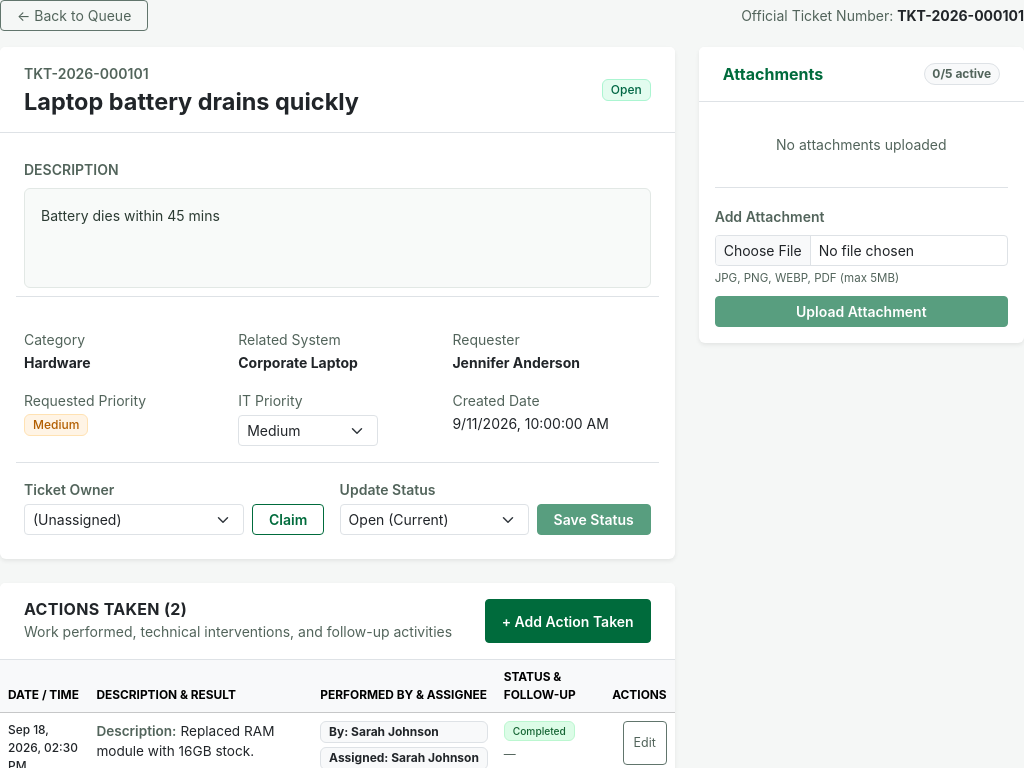
Test: Lab 4 / UI-07: Actions Taken Component Test Suite › 5. Double Submission Prevention › prevents duplicate Action Taken records when save button is clicked multiple times rapidly
Click the button "+ Add Action Taken" at (568, 621), box [485,599,651,643]
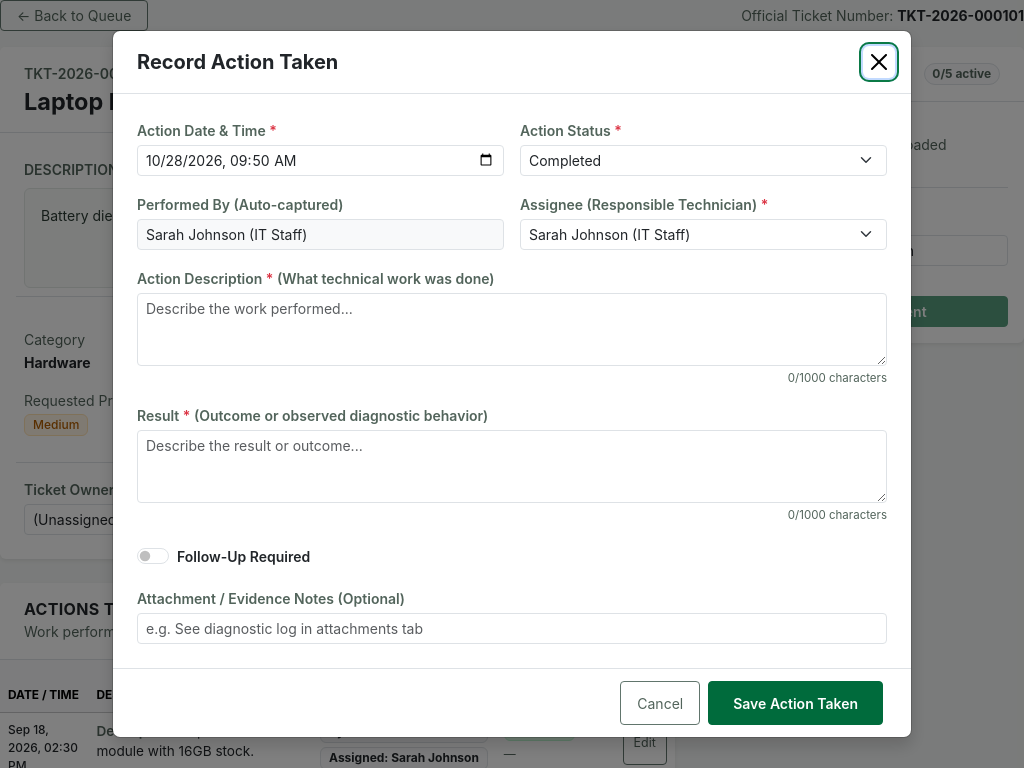
Result: the dialog is shown
Type "Testing double click prevention" into the text box labelled "Action Description * (What technical work was done)" at (512, 329), box [137,293,887,366]
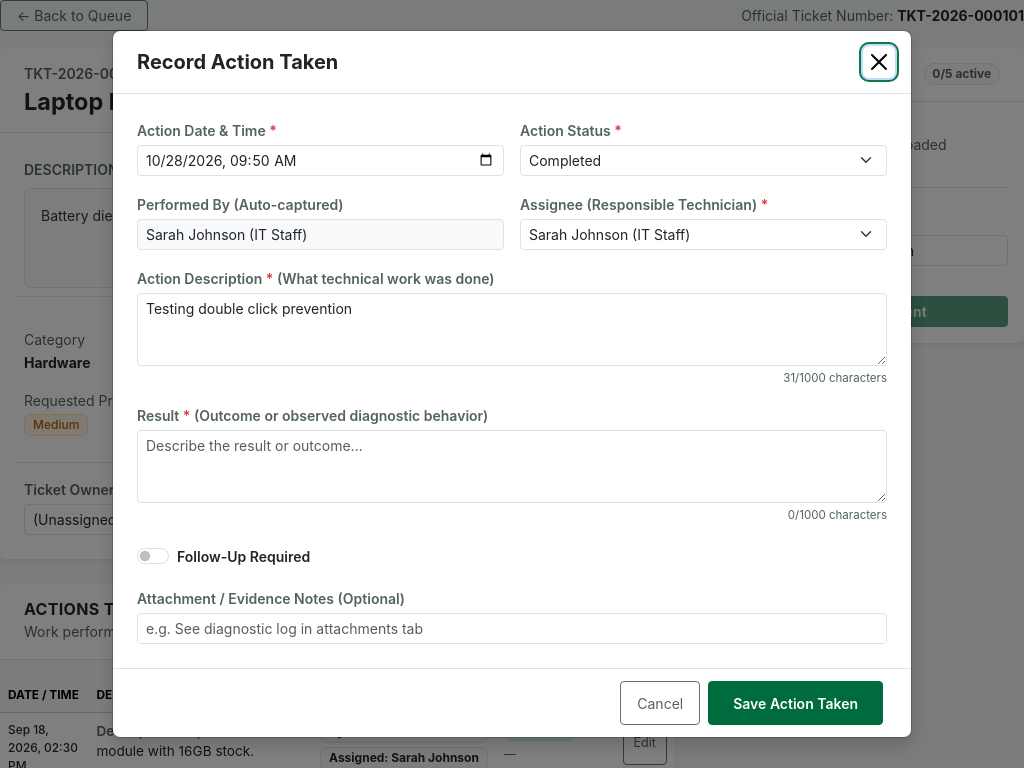
Type "Testing result" into the text box labelled "Result * (Outcome or observed diagnostic behavior)" at (512, 466), box [137,430,887,503]
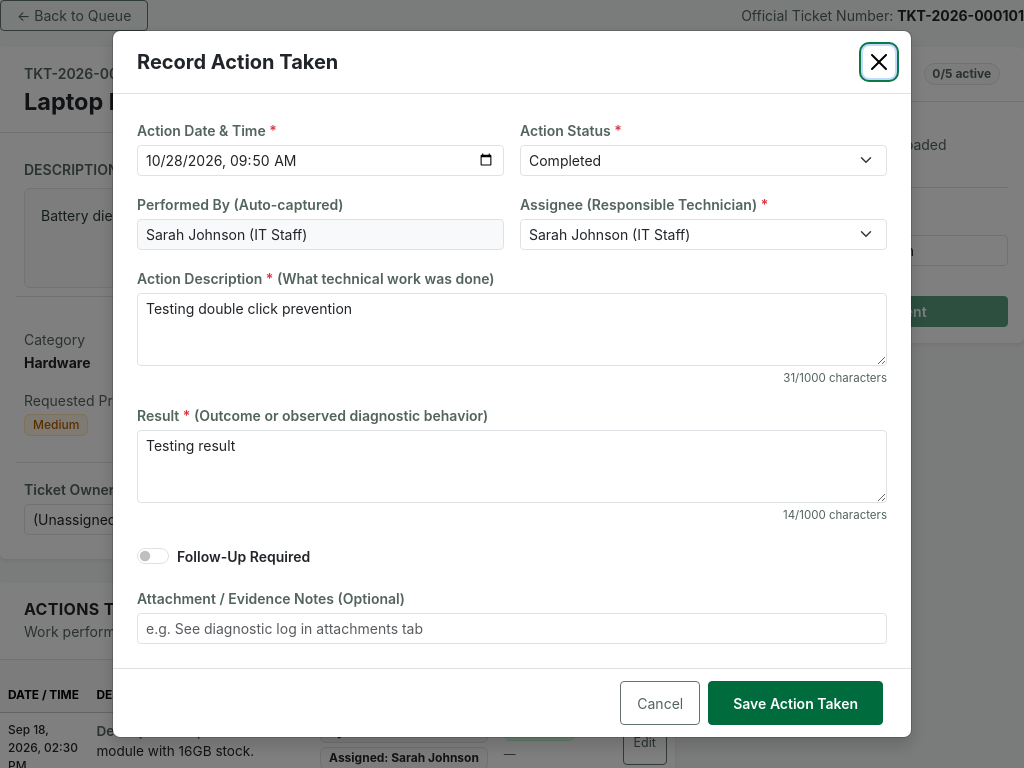
Select "Sarah Johnson (IT Staff)" in the dropdown labelled "Assignee (Responsible Technician) *" at (704, 234), box [520,219,887,250]
Note: Rapid double clicks
Click the button "Save Action Taken" at (796, 703), box [708,681,883,725]
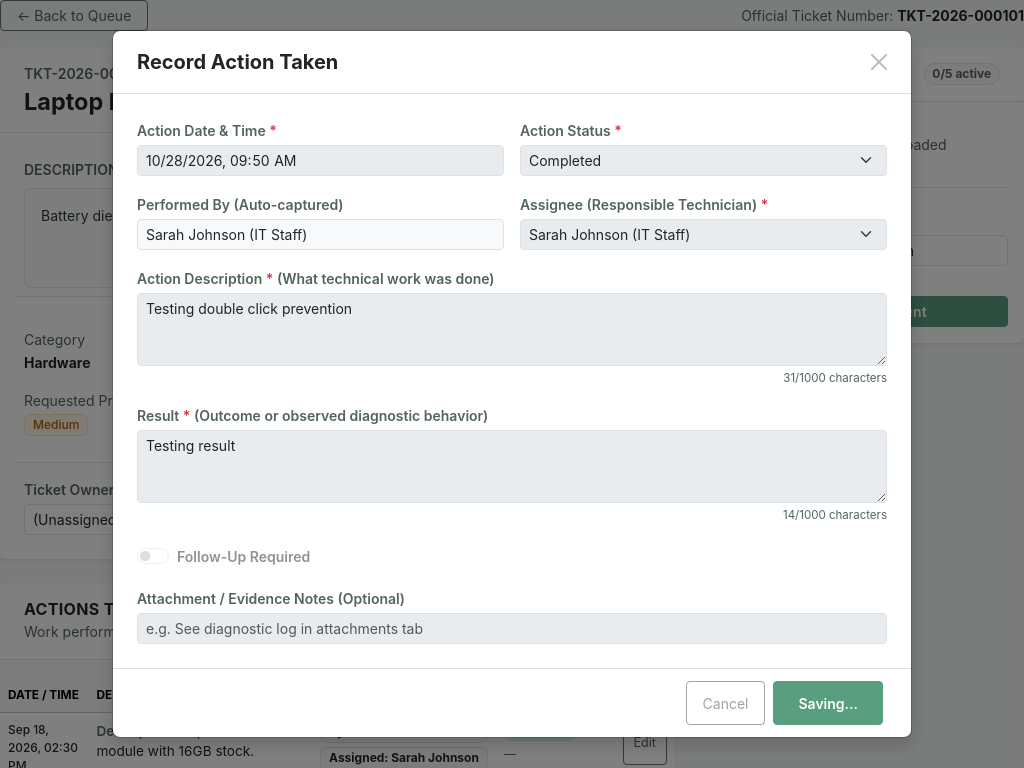
Click the button named "Save Action Taken" at (828, 703), box [774,681,883,725]
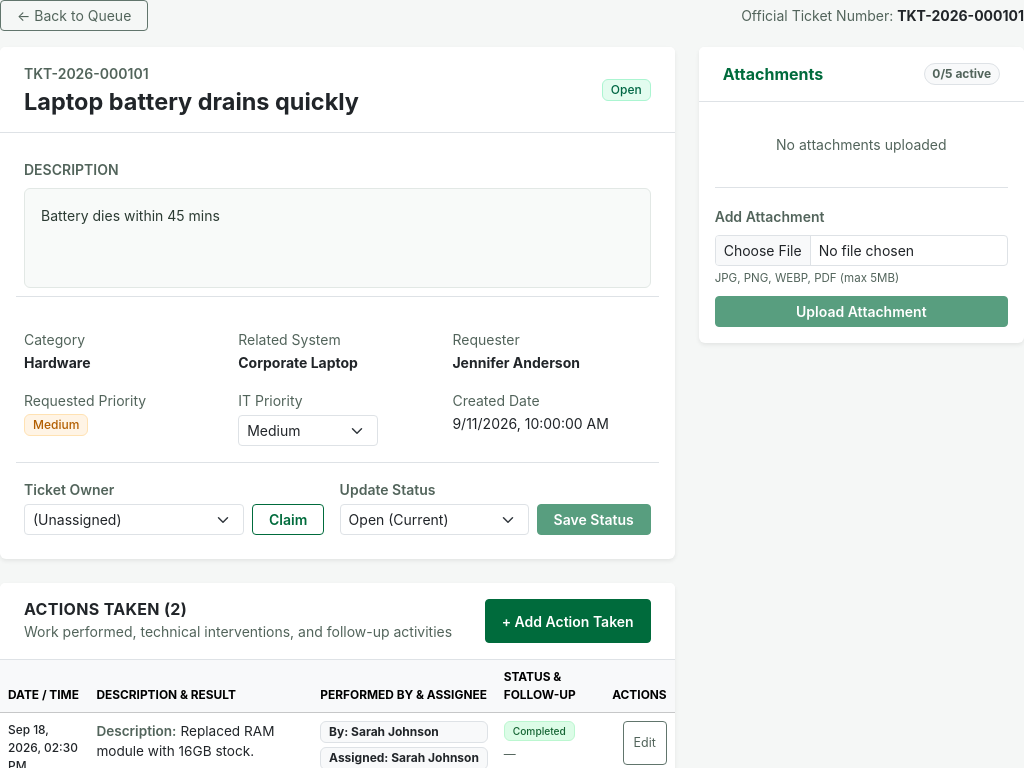
Result: the dialog is gone
